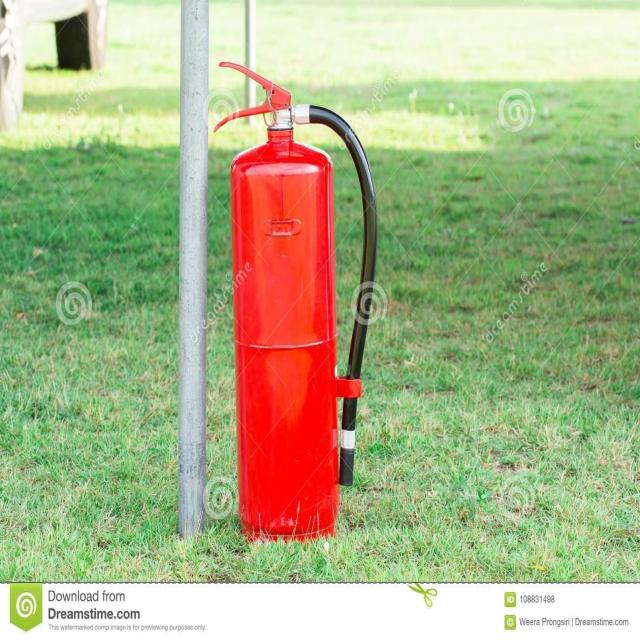fire_extinguisher: (208, 55, 382, 548)
